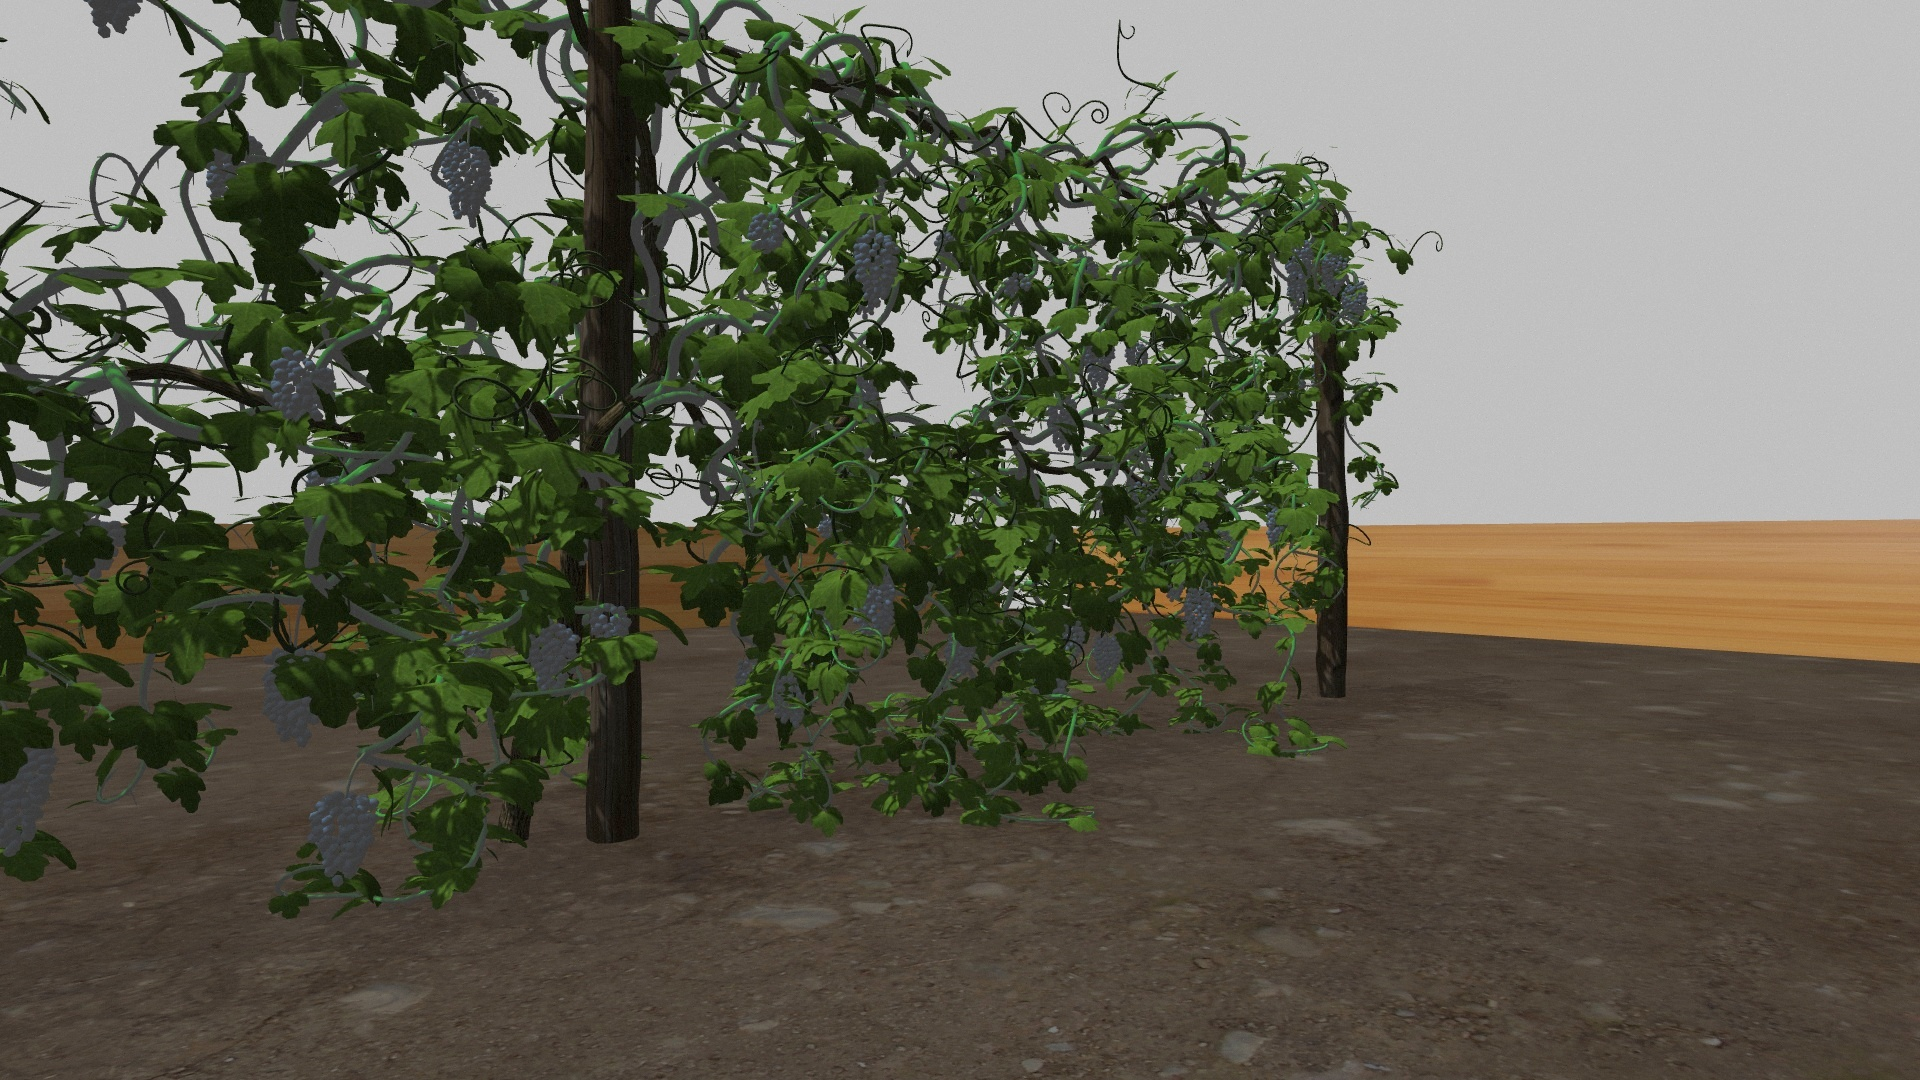grape: (4, 738, 59, 861), (261, 647, 326, 746), (310, 793, 378, 885), (270, 345, 338, 421), (440, 140, 493, 228), (855, 229, 905, 314), (529, 622, 578, 695), (855, 585, 897, 636), (583, 604, 632, 640), (1083, 338, 1117, 388), (1183, 589, 1216, 640), (774, 675, 807, 725), (1091, 633, 1124, 682), (1048, 398, 1079, 451), (748, 212, 783, 253), (944, 638, 977, 675), (1321, 252, 1349, 295), (1286, 272, 1311, 311), (1342, 281, 1367, 318), (1064, 622, 1087, 661), (1265, 508, 1286, 546), (1002, 272, 1031, 297), (1124, 343, 1149, 365)
